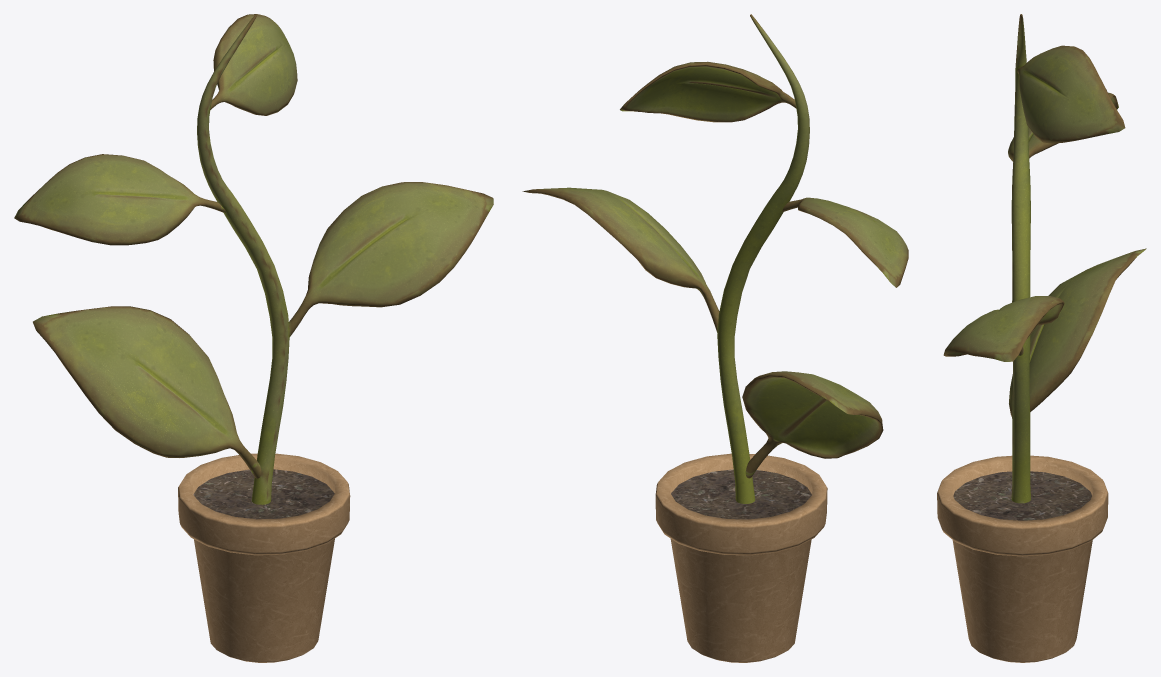
Rendered from small_plant.fbx.
The picture shows the model from 3 angles, left to right: view 1: azimuth 30°, elevation 25°; view 2: azimuth 150°, elevation 25°; view 3: azimuth 270°, elevation 25°; orthographic projection.
Parts seen in each view (by area): view 1: polySurface35; view 2: polySurface35; view 3: polySurface35.
Part boxes in pixels (x1,y1,x2,y2): polySurface35: (14,14,493,662); polySurface35: (522,14,908,662); polySurface35: (937,14,1146,662).
Bounding box in the file's own units: 44.78 × 63.39 × 19.27.
1 material, 1 textured.
